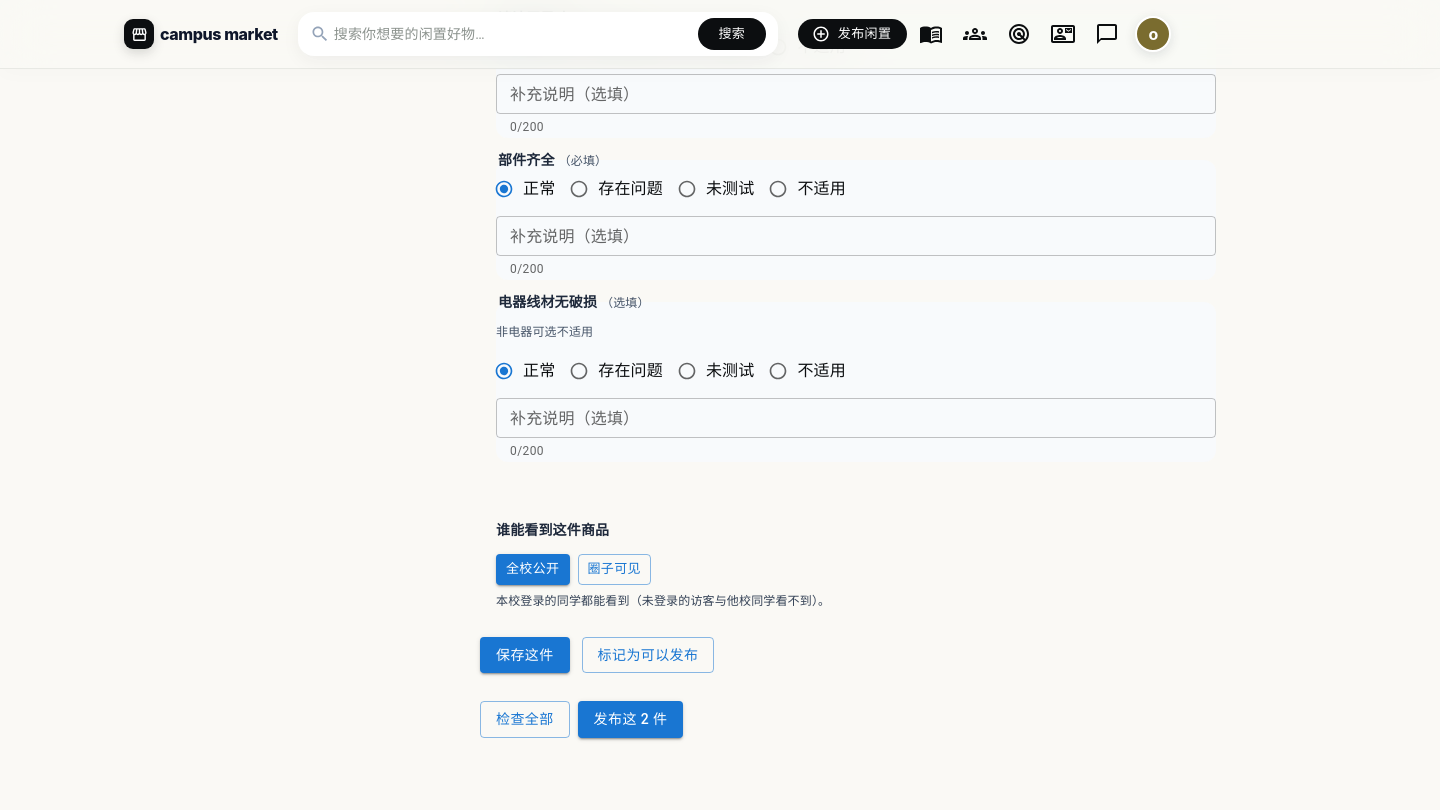
Test: 5.3 毕业季快速发布工作台 › 发布被拒：不假装部分成功；逐件原因出现在清单里；已填写的其他条目都还在
The image size is (1440, 810).
(page scrolled)
Click the button "发布这 2 件" at (630,720), box [578, 701, 683, 738]
(page scrolled)
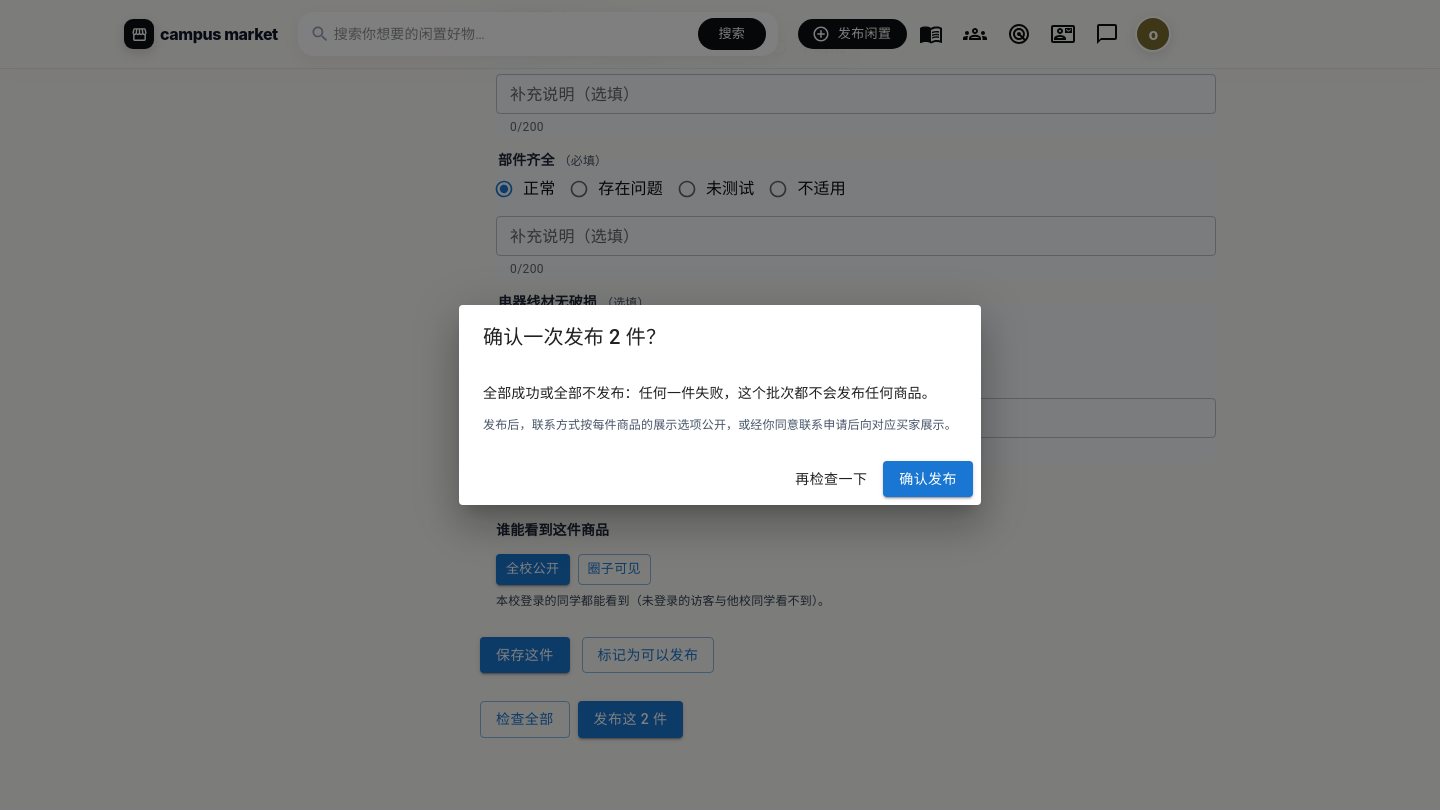
Click the button "确认发布" at (928,479), box [883, 461, 973, 497]
(page scrolled)
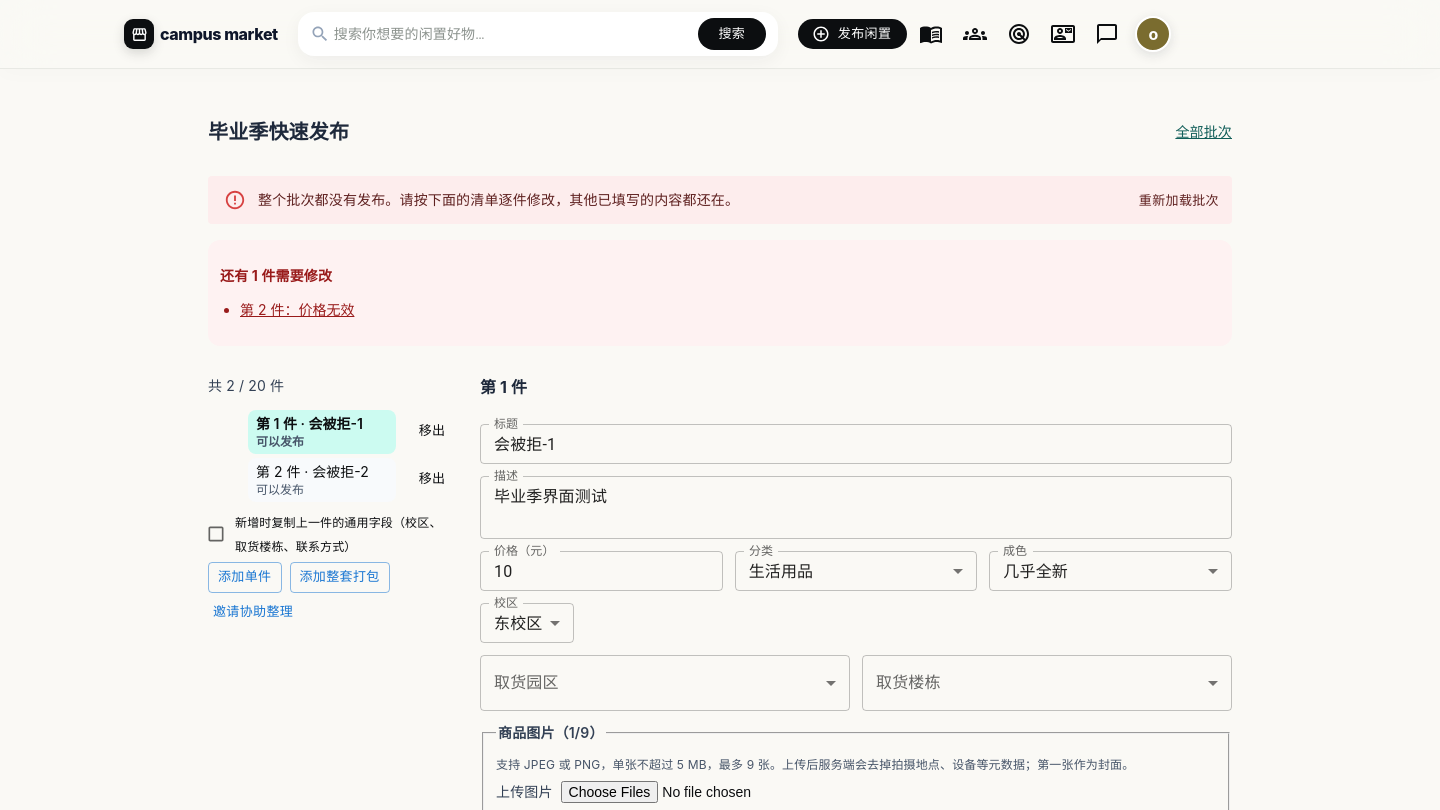
expect the text "整个批次都没有发布。请按下面的清单逐件修改，其他已填写的内容都还在。" is shown: met, box [258, 192, 739, 208]
expect the dialog is gone: met
expect the button "第 2 件：价格无效" is shown: met, box [240, 300, 354, 320]
